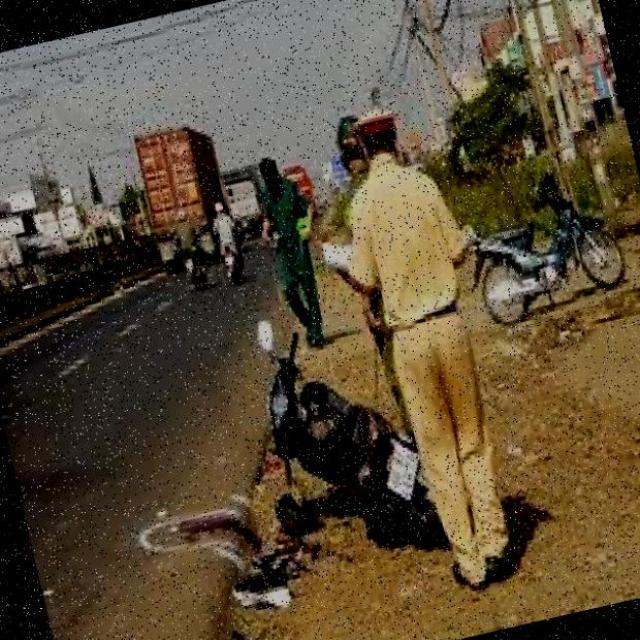accident: (207, 274, 451, 572)
